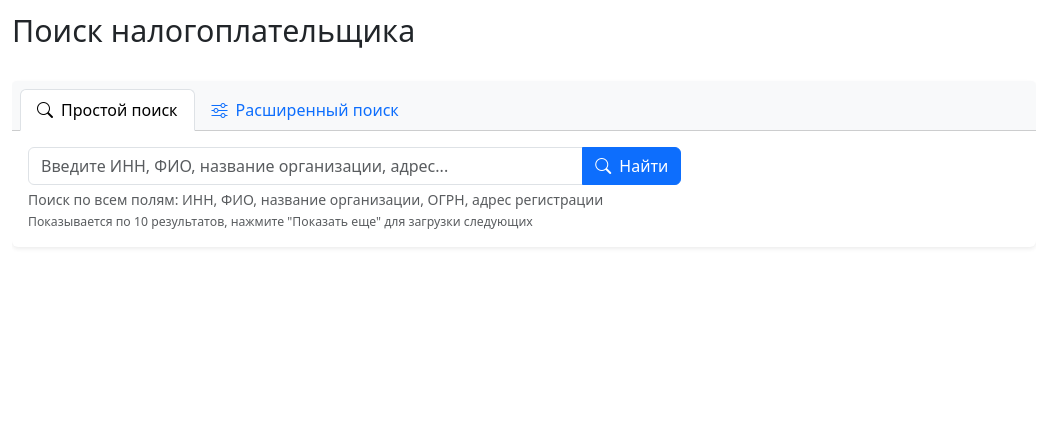
Test: WorkerTaxpayerSearch › should handle successful search
Заполняем и отправляем форму
Type "1234567890" into the field with placeholder "Введите ИНН, ФИО, название организации, адрес..." at (306, 166), box [28,146,583,184]
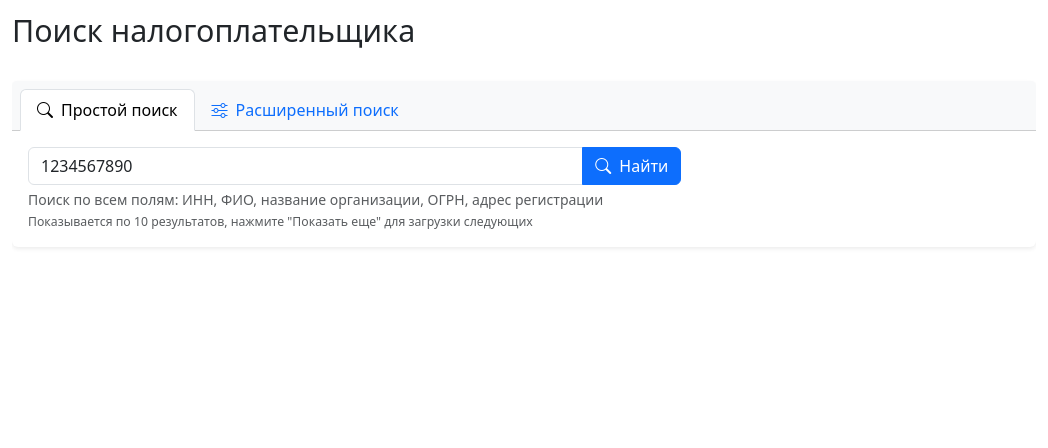
Click the button "Найти" at (632, 166), box [582,146,681,184]
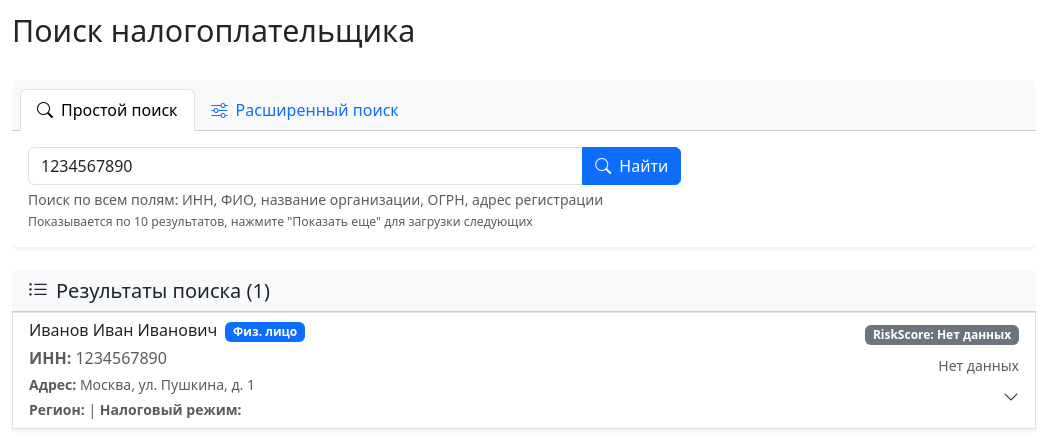
Expected: the heading "Иванов Иван Иванович Физ. лицо" is shown, [29,321,305,342]
Expected: the text "1234567890" is shown, [75,347,167,369]
